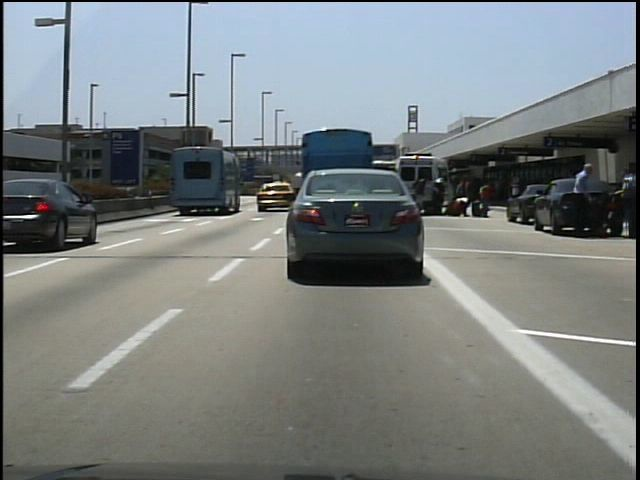person: (565, 157, 598, 240), (609, 162, 638, 240), (429, 173, 449, 219), (412, 171, 431, 219), (453, 174, 472, 219), (478, 179, 496, 220)
